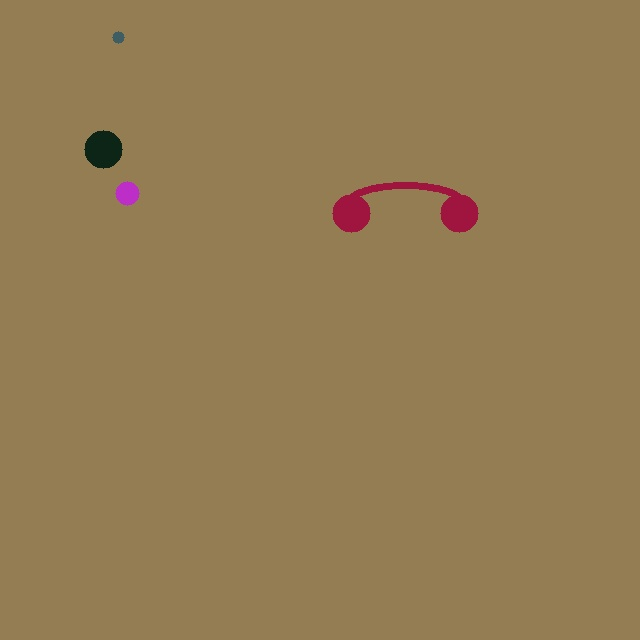over_ear: (328, 159, 482, 236)
